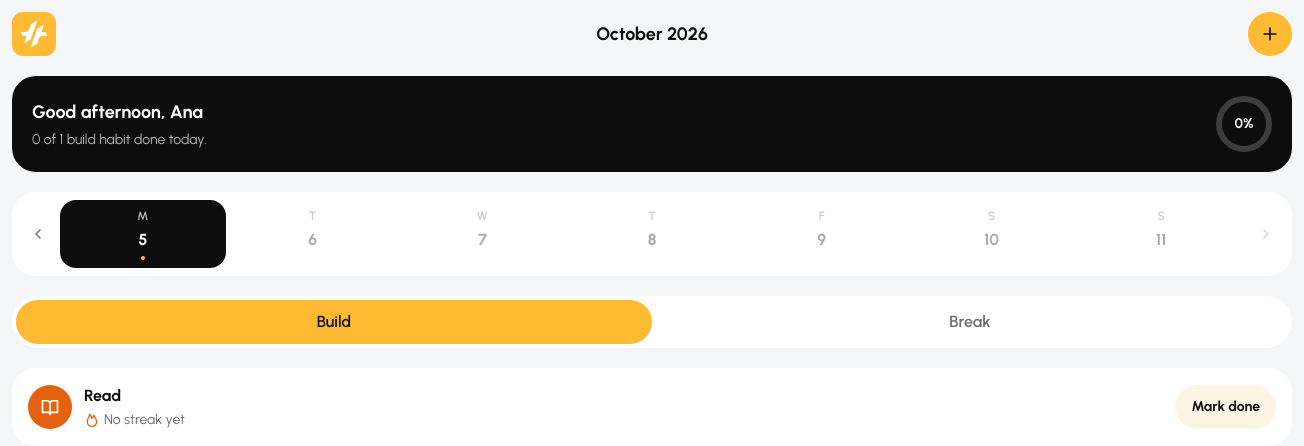
Test case: today › marks today done and shows the server's answer
Click the button "Mark done" at {"x": 1226, "y": 407}, box [1176,385,1276,429]
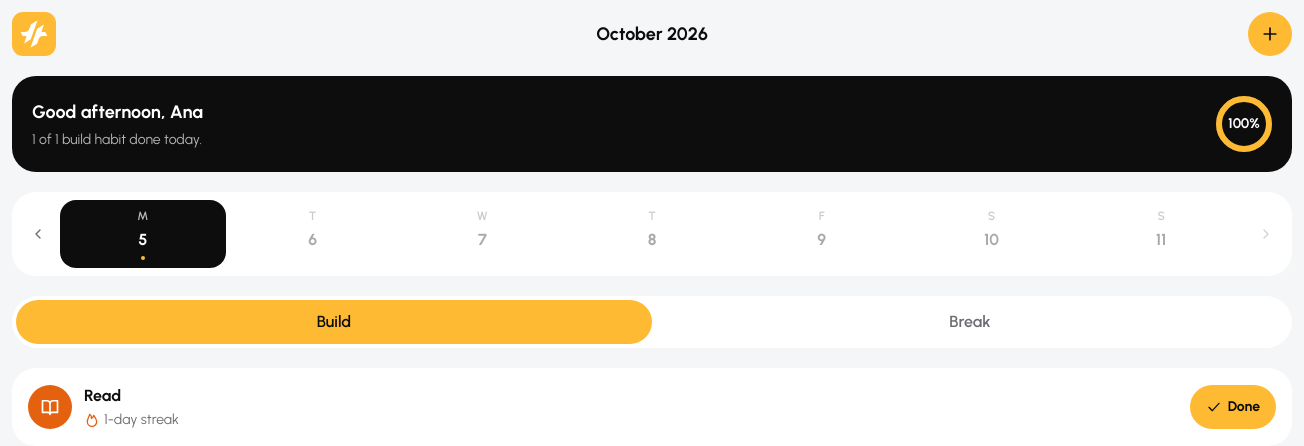
Result: the text "1 of 1 build habit done today" is shown at [32,131,202,148]
